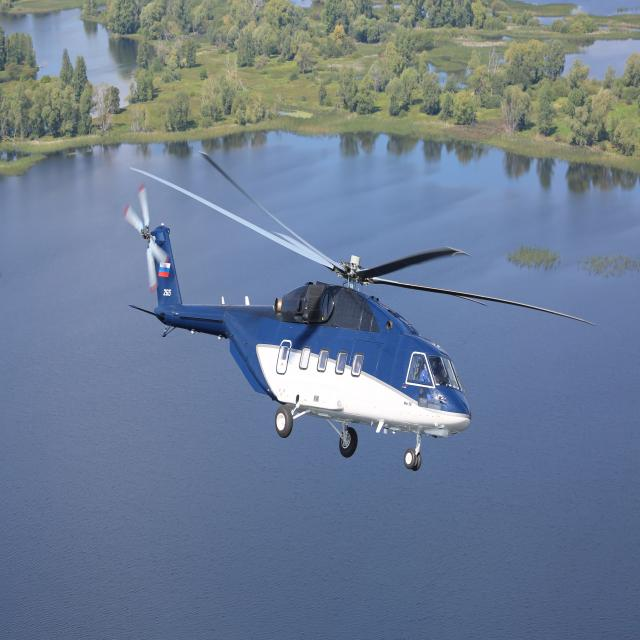helicopter: (124, 152, 596, 470)
